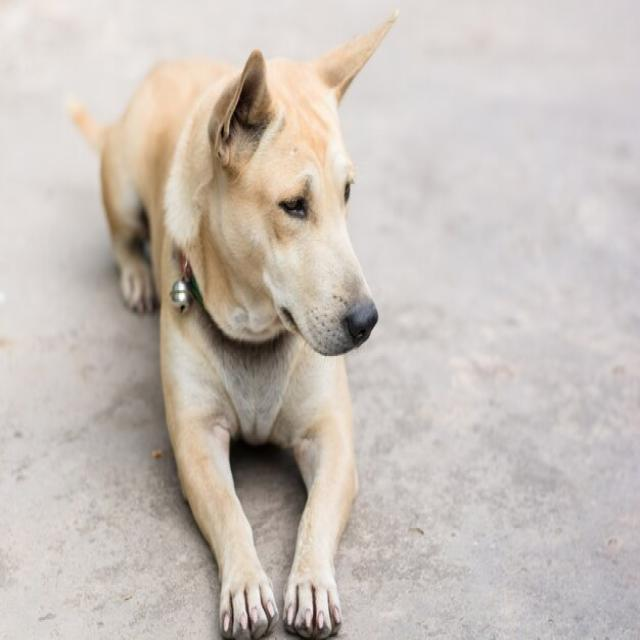laying down: (69, 4, 413, 640)
